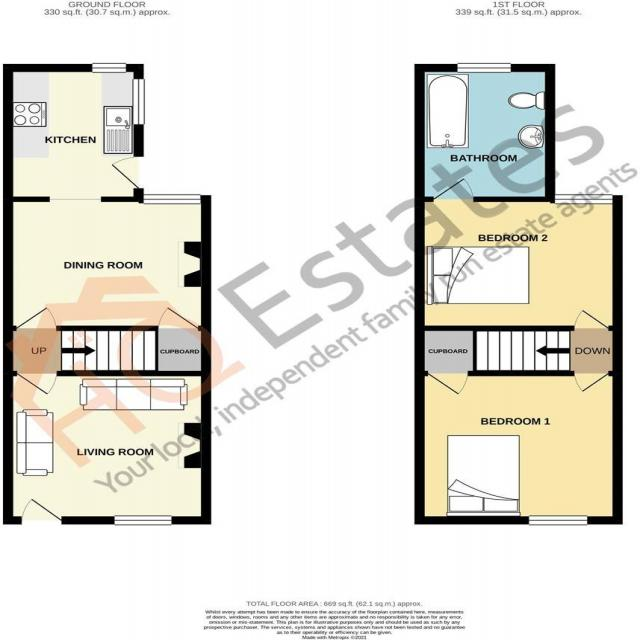DOOR: (13, 303, 61, 332), (18, 496, 64, 525), (423, 370, 470, 397), (109, 154, 144, 190), (12, 370, 60, 396), (428, 176, 476, 202), (155, 305, 202, 331), (572, 370, 614, 394), (572, 308, 613, 331)
ROOM: (414, 173, 625, 330), (2, 370, 211, 525), (414, 370, 623, 525), (3, 188, 212, 333), (3, 64, 144, 202)
WINDOW: (525, 513, 589, 528), (553, 193, 615, 206), (131, 77, 146, 126), (456, 61, 512, 74), (113, 515, 172, 527), (143, 193, 202, 205), (48, 195, 103, 203), (91, 62, 127, 74)
